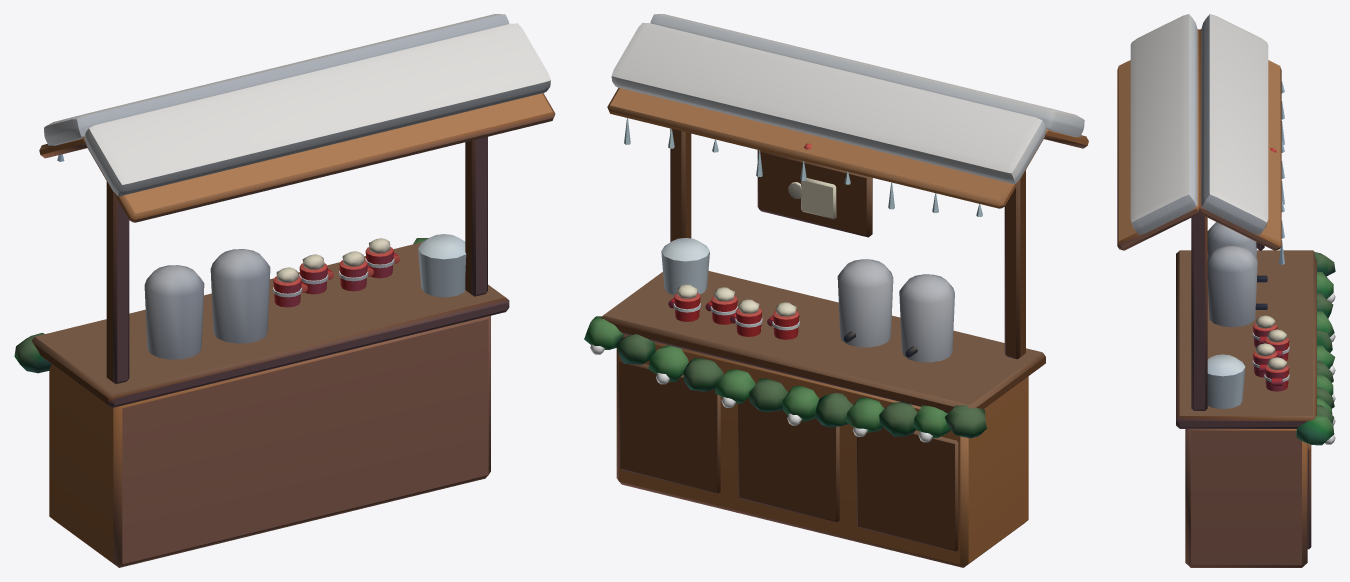
The model's file is CocoaBar.fbx.
The picture shows the model from 3 angles, left to right: view 1: azimuth 30°, elevation 25°; view 2: azimuth 150°, elevation 25°; view 3: azimuth 270°, elevation 25°; orthographic projection. The views are drawn at different scales.
Visible parts, largest first — view 1: SM_Xmas_CocoaBar; view 2: SM_Xmas_CocoaBar, SM_Xmas_CocoaBar_Glow; view 3: SM_Xmas_CocoaBar.
Boxes of the visible parts, x1,y1,x2,y2 form: SM_Xmas_CocoaBar: (14,14,555,567); SM_Xmas_CocoaBar: (584,14,1088,567); SM_Xmas_CocoaBar_Glow: (590,344,932,442); SM_Xmas_CocoaBar: (1117,14,1335,567).
Size of the model in its own units: 9.2 by 9.1 by 4.65.
